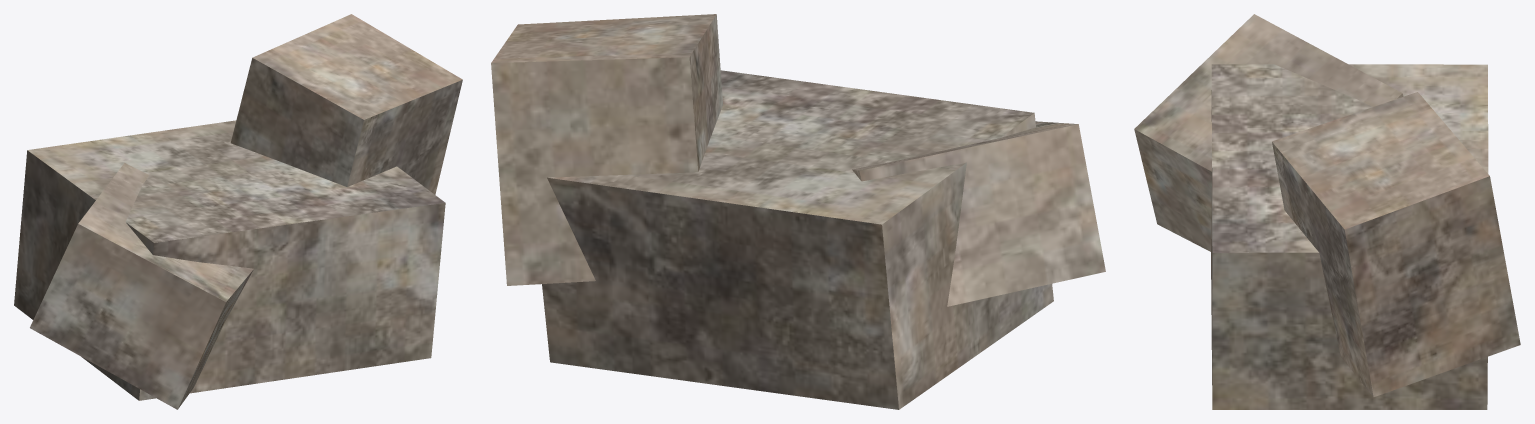
The model's file is rubble.glb.
The picture shows the model from 3 angles, left to right: view 1: azimuth 30°, elevation 25°; view 2: azimuth 150°, elevation 25°; view 3: azimuth 270°, elevation 25°; orthographic projection. The views are drawn at different scales.
Parts seen in each view (by area): view 1: rubble; view 2: rubble; view 3: rubble.
Part boxes in pixels (box(x1,y1,x2,y2)): rubble: box(14, 14, 462, 409); rubble: box(491, 14, 1105, 409); rubble: box(1134, 14, 1520, 409).
Bounding box in the file's own units: 1.26 × 0.6538 × 0.8377.
Materials: 1 (1 with a texture image).
